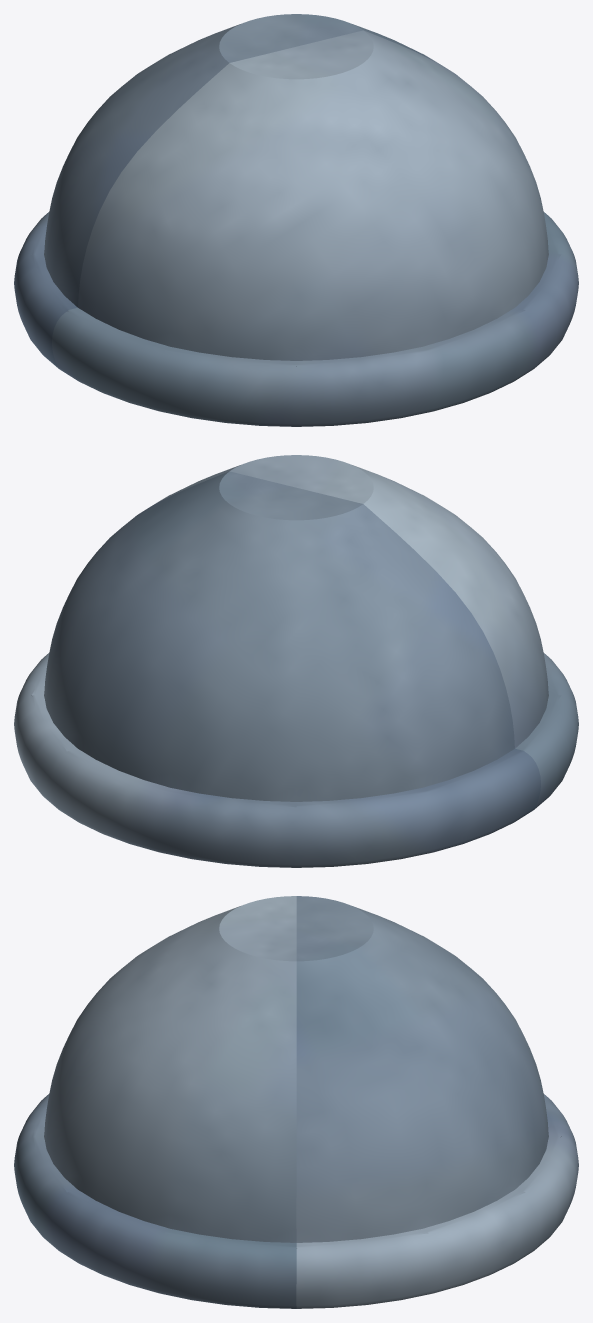
Rendered from CappelloDiLana.fbx.
3 views of the same model, one above another, from view 1: azimuth 30°, elevation 25°; view 2: azimuth 150°, elevation 25°; view 3: azimuth 270°, elevation 25° (orthographic).
Parts seen in each view (by area): view 1: Circle; view 2: Circle; view 3: Circle.
Boxes of the visible parts, x1,y1,x2,y2 form: Circle: [14, 14, 578, 426]; Circle: [14, 455, 578, 867]; Circle: [14, 896, 578, 1308].
Bounding box in the file's own units: 221 × 114 × 221.
1 material, 1 textured.
